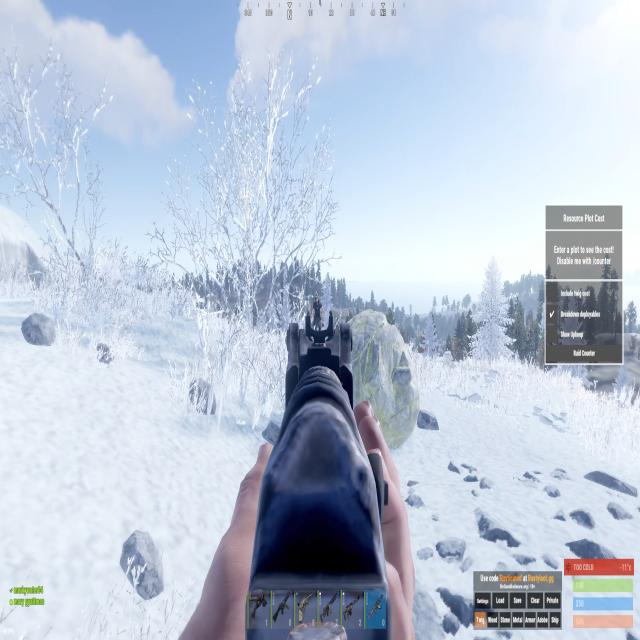Player: (312, 294, 324, 330)
